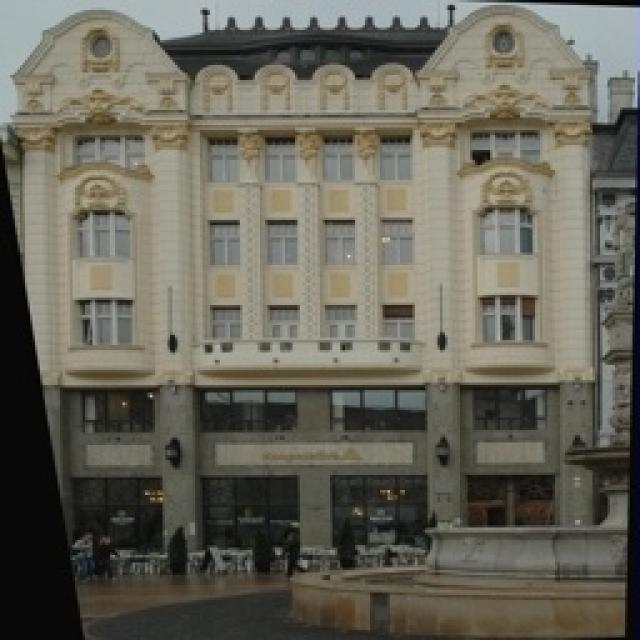building: (3, 0, 615, 625)
